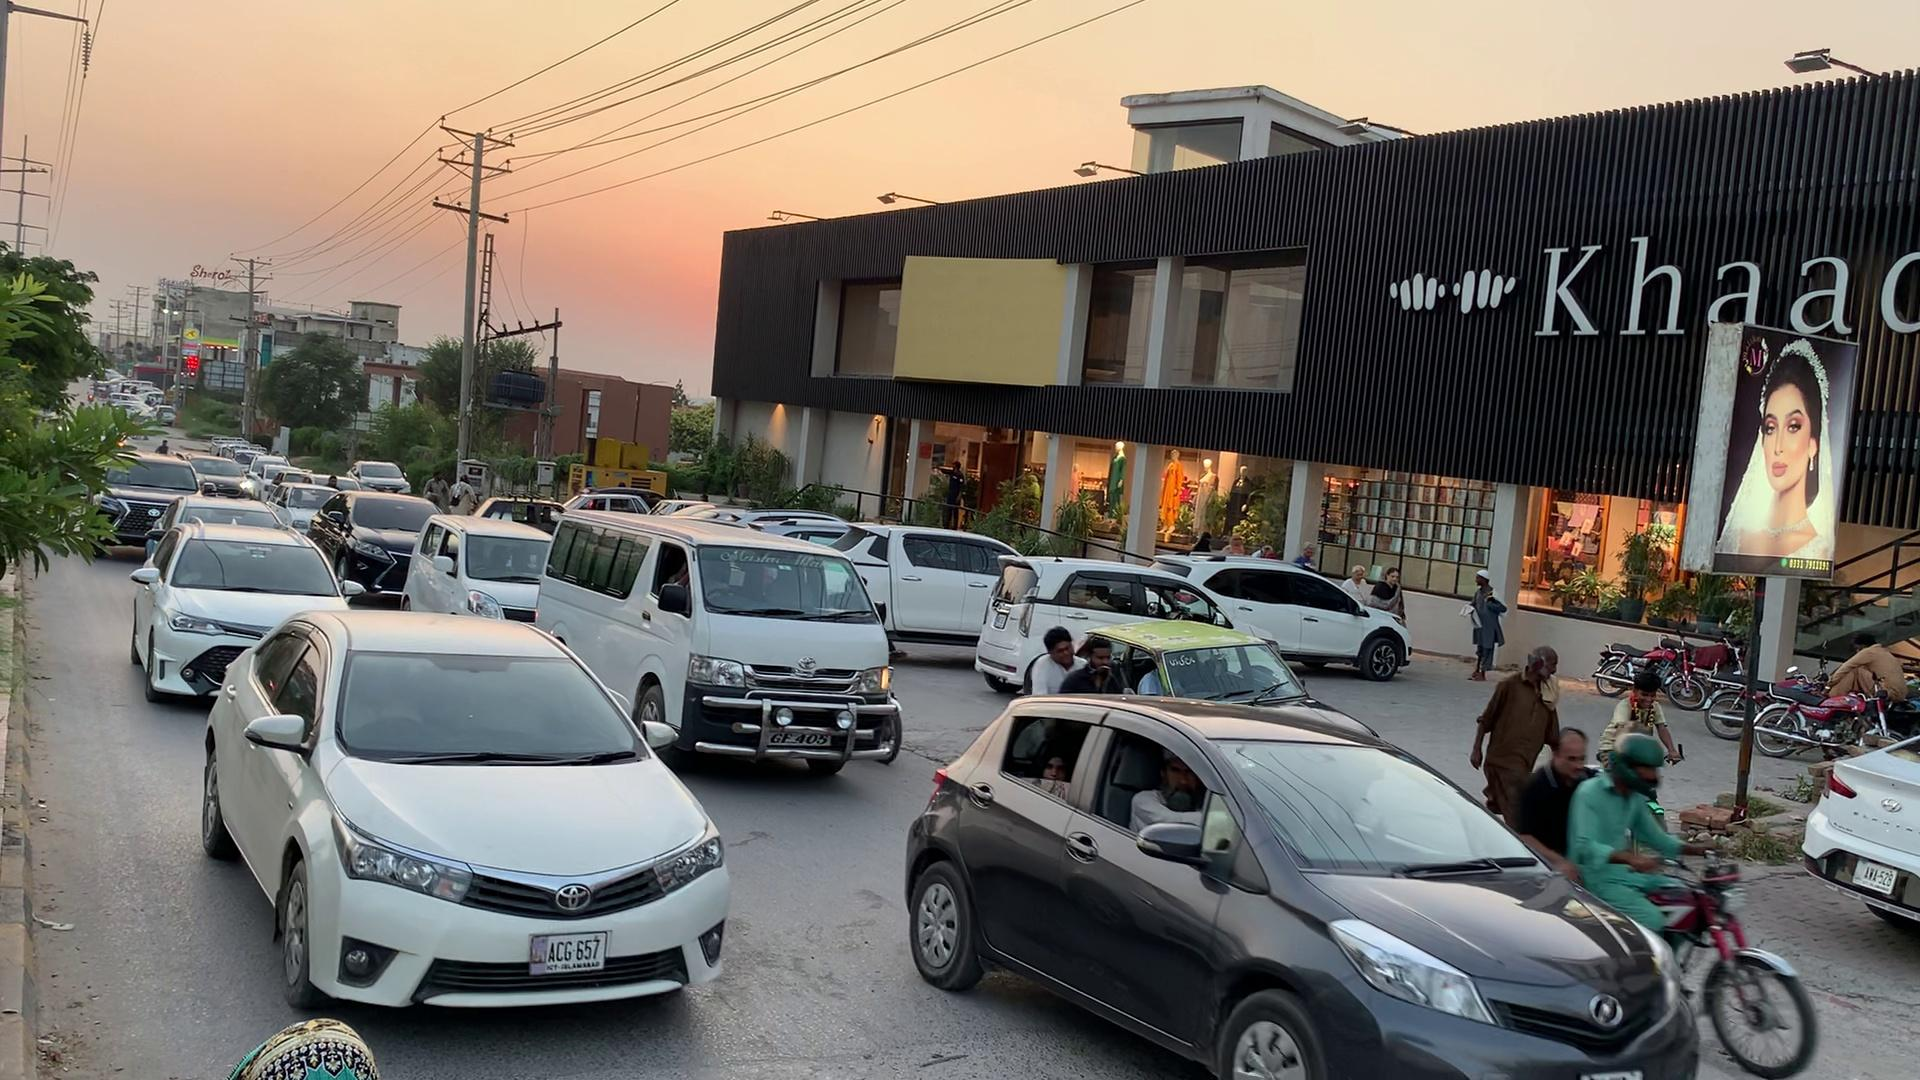windshield: (1207, 724, 1567, 880), (334, 633, 667, 787)
